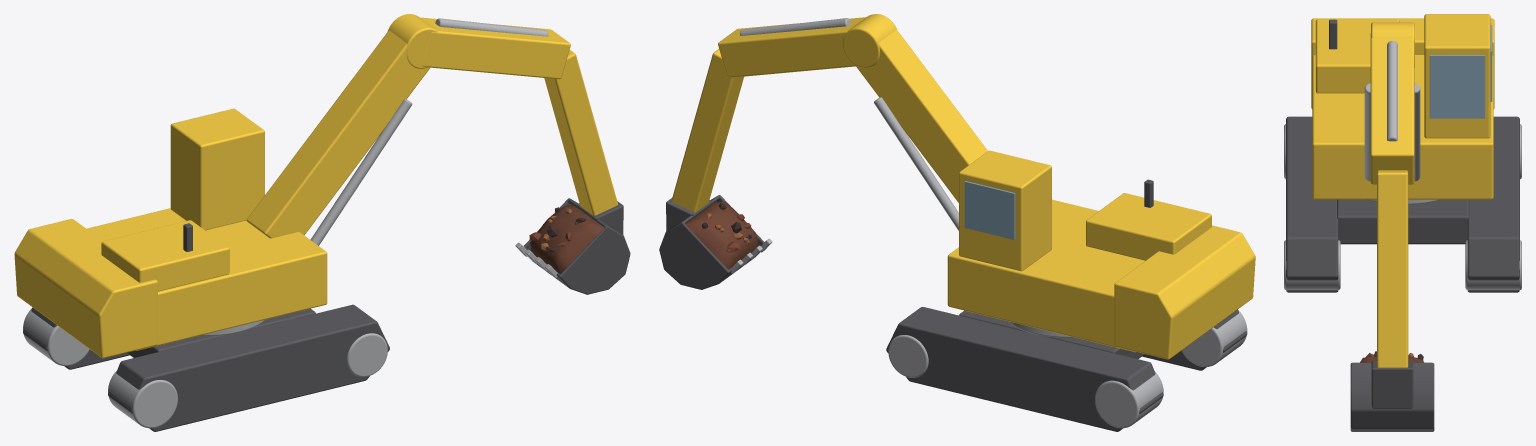
Rendered from excavator.glb.
3 views of the same model, side by side, from view 1: azimuth 30°, elevation 25°; view 2: azimuth 150°, elevation 25°; view 3: azimuth 270°, elevation 25° (orthographic). The views are drawn at different scales.
Parts seen in each view (by area): view 1: EX_Track_R, EX_House, EX_Counterweight, EX_Boom_A, EX_Cab, EX_Boom_B, EX_EngineHood, EX_Stick, EX_Bucket, EX_OreLoad, EX_Track_R_sprocket, EX_BoomCyl.001 (+6 smaller); view 2: EX_Track_L, EX_House, EX_Counterweight, EX_Boom_A, EX_Cab, EX_EngineHood, EX_Boom_B, EX_Stick, EX_Bucket, EX_OreLoad, EX_Cab_Side, EX_Track_L_sprocket (+7 smaller); view 3: EX_House, EX_Track_L, EX_Track_R, EX_Stick, EX_Boom_B, EX_Cab, EX_Undercarriage, EX_EngineHood, EX_Bucket, EX_Cab_Front, EX_BucketBracket, EX_StickCyl (+8 smaller).
Part boxes in pixels (<box>): EX_Track_R: <box>108,304,389,431</box>; EX_House: <box>87,208,327,350</box>; EX_Counterweight: <box>14,219,157,358</box>; EX_Boom_A: <box>246,30,429,238</box>; EX_Cab: <box>170,108,264,230</box>; EX_Boom_B: <box>420,17,570,79</box>; EX_EngineHood: <box>101,220,229,291</box>; EX_Stick: <box>544,50,617,215</box>; EX_Bucket: <box>523,198,630,294</box>; EX_OreLoad: <box>529,204,603,273</box>; EX_Track_R_sprocket: <box>108,371,177,428</box>; EX_BoomCyl.001: <box>310,99,412,245</box>; EX_Track_L: <box>886,307,1163,431</box>; EX_House: <box>947,199,1145,352</box>; EX_Counterweight: <box>1114,225,1255,359</box>; EX_Boom_A: <box>856,30,987,202</box>; EX_Cab: <box>959,150,1051,271</box>; EX_EngineHood: <box>1086,193,1211,260</box>; EX_Boom_B: <box>718,17,866,77</box>; EX_Stick: <box>671,49,743,212</box>; EX_Bucket: <box>659,195,764,289</box>; EX_OreLoad: <box>685,201,758,269</box>; EX_Cab_Side: <box>964,181,1015,239</box>; EX_Track_L_sprocket: <box>1095,372,1163,428</box>; EX_House: <box>1312,55,1493,199</box>; EX_Track_L: <box>1467,116,1519,292</box>; EX_Track_R: <box>1286,116,1338,292</box>; EX_Stick: <box>1377,170,1408,367</box>; EX_Boom_B: <box>1370,33,1414,184</box>; EX_Cab: <box>1424,14,1490,138</box>; EX_Undercarriage: <box>1337,199,1468,244</box>; EX_EngineHood: <box>1315,19,1399,93</box>; EX_Bucket: <box>1350,362,1434,431</box>; EX_Cab_Front: <box>1429,55,1485,118</box>; EX_BucketBracket: <box>1371,360,1413,408</box>; EX_StickCyl: <box>1387,41,1397,141</box>.
Bounding box in the file's own units: 9.77 × 5.05 × 3.41.
